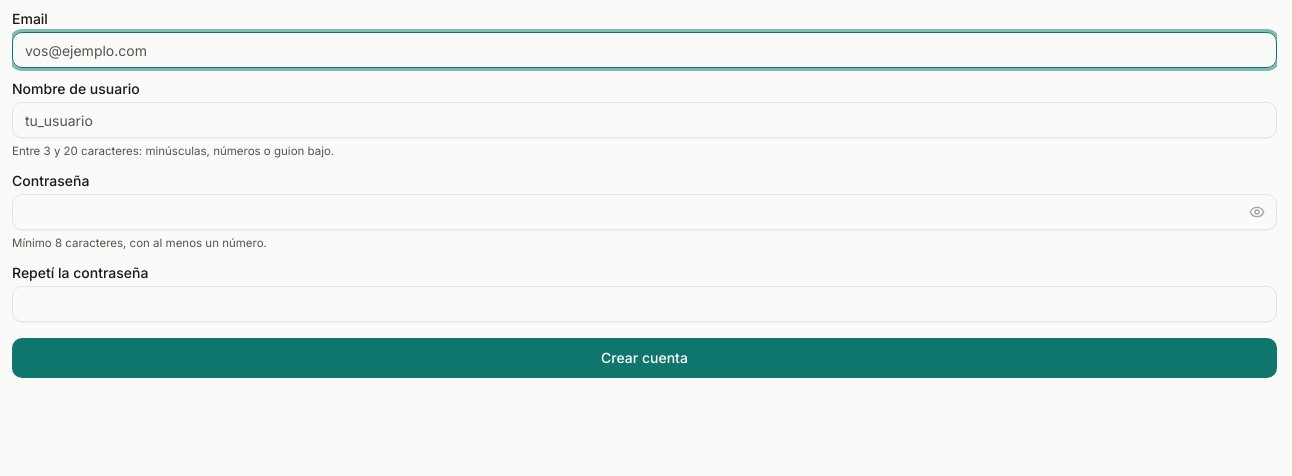
Test: SignupForm › blocks invalid submissions with field validation
The width and height of the screenshot is (1292, 476).
Click the button "Crear cuenta" at (644, 358), box [12,338,1277,378]
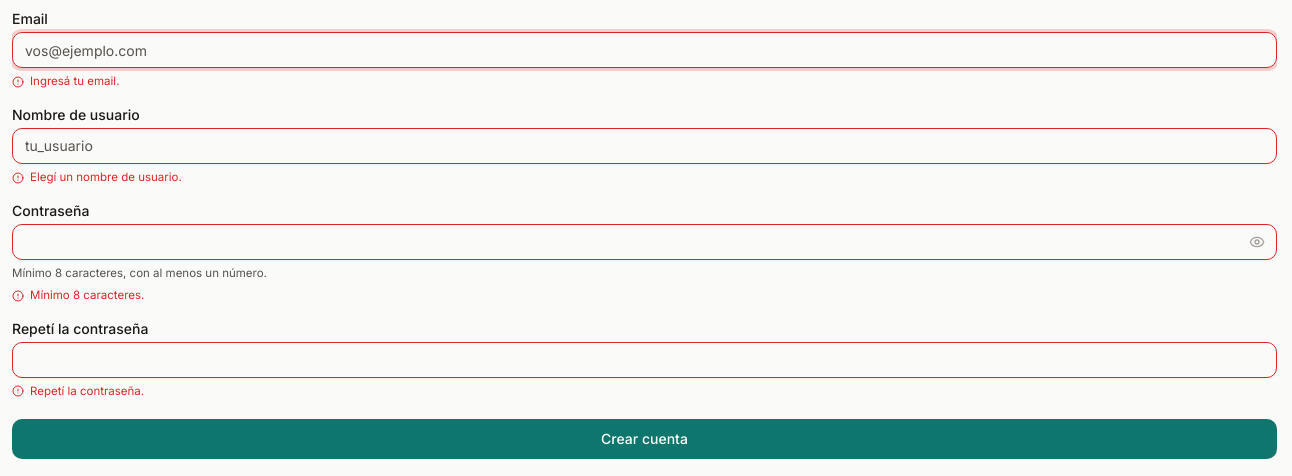
Expected: the text "Ingresá tu email." is shown, [12,74,120,90]
